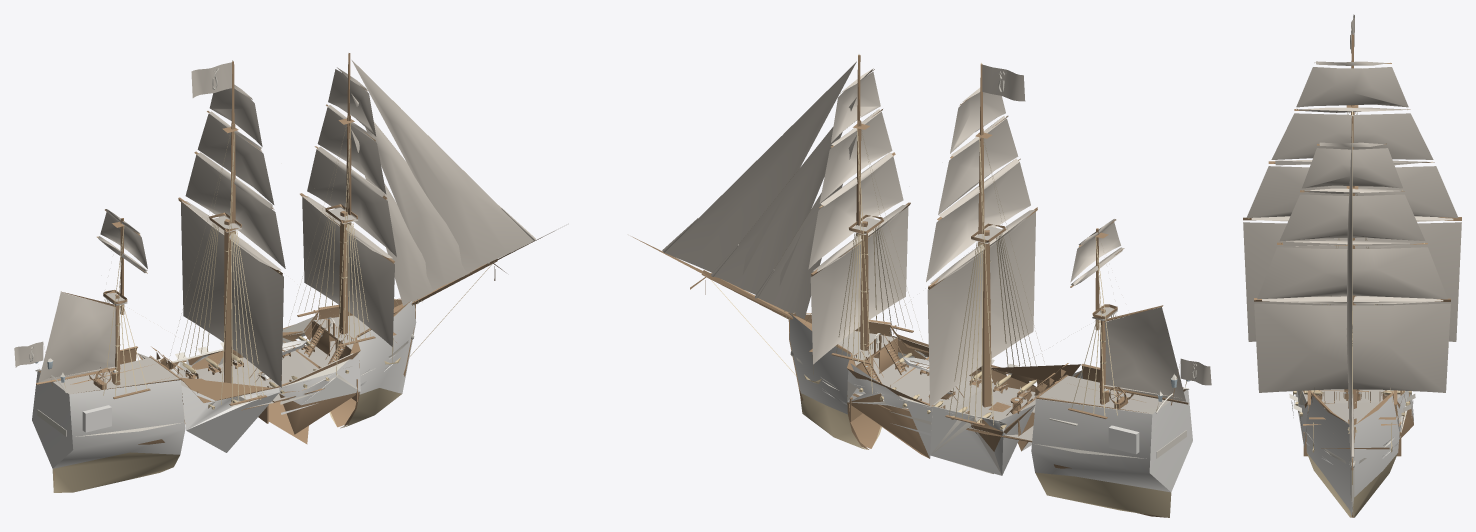
File: Second_Bride_LOD2.dae
The picture shows the model from 3 angles, left to right: view 1: azimuth 30°, elevation 25°; view 2: azimuth 150°, elevation 25°; view 3: azimuth 270°, elevation 25°; orthographic projection. The views are drawn at different scales.
Parts seen in each view (by area): view 1: Bride_Sails_Main_LOD2, Bride_Sails_Head_LOD2, Bride_Sails_Fore_LOD2, Bride_Hull_Stern_LOD2, Bride_Sails_Mizzen_LOD2, Bride_Hull_Aft_LOD2, Bride_Hull_Bow_LOD2, Bride_Hull_Fore_LOD2, Bride_Deck_Quarter_LOD2, Bride_Deck_Main_Fore_LOD2, Bride_Shrouds_Main_S_LOD2, Bride_Mast_Main_LOD2 (+14 smaller); view 2: Bride_Sails_Main_LOD2, Bride_Sails_Head_LOD2, Bride_Sails_Fore_LOD2, Bride_Hull_Stern_LOD2, Bride_Sails_Mizzen_LOD2, Bride_Hull_Aft_LOD2, Bride_Hull_Bow_LOD2, Bride_Hull_Fore_LOD2, Bride_Deck_Quarter_LOD2, Bride_Deck_Main_Fore_LOD2, Bride_Shrouds_Main_P_LOD2, Bride_Mast_Main_LOD2 (+16 smaller); view 3: Bride_Sails_Fore_LOD2, Bride_Sails_Main_LOD2, Bride_Hull_Bow_LOD2, Bride_Furled_Fore_LOD2, Bride_Sails_Head_LOD2, Bride_Furled_Main_LOD2, Bride_Hull_Fore_LOD2, Bride_Deck_Main_Fore_LOD2, Bride_Deck_Fore_LOD2, Bride_Bowsprit_LOD2, Bride_Topmast_Fore_LOD2, Bride_Topmast_Main_LOD2 (+1 smaller).
Part boxes in pixels (left/top/right/bottom): Bride_Sails_Main_LOD2: left=181, top=88, right=285, bottom=387; Bride_Sails_Head_LOD2: left=351, top=60, right=533, bottom=305; Bride_Sails_Fore_LOD2: left=302, top=69, right=396, bottom=346; Bride_Hull_Stern_LOD2: left=32, top=346, right=185, bottom=492; Bride_Sails_Mizzen_LOD2: left=38, top=212, right=147, bottom=382; Bride_Hull_Aft_LOD2: left=137, top=348, right=279, bottom=452; Bride_Hull_Bow_LOD2: left=318, top=298, right=416, bottom=428; Bride_Hull_Fore_LOD2: left=231, top=310, right=360, bottom=444; Bride_Deck_Quarter_LOD2: left=53, top=346, right=195, bottom=394; Bride_Deck_Main_Fore_LOD2: left=222, top=341, right=335, bottom=402; Bride_Shrouds_Main_S_LOD2: left=221, top=131, right=267, bottom=405; Bride_Mast_Main_LOD2: left=209, top=212, right=241, bottom=383; Bride_Sails_Main_LOD2: left=926, top=92, right=1035, bottom=406; Bride_Sails_Head_LOD2: left=664, top=61, right=856, bottom=319; Bride_Sails_Fore_LOD2: left=808, top=72, right=908, bottom=364; Bride_Hull_Stern_LOD2: left=1031, top=364, right=1192, bottom=517; Bride_Sails_Mizzen_LOD2: left=1070, top=222, right=1185, bottom=401; Bride_Hull_Aft_LOD2: left=930, top=364, right=1082, bottom=475; Bride_Hull_Bow_LOD2: left=788, top=312, right=891, bottom=449; Bride_Hull_Fore_LOD2: left=847, top=325, right=981, bottom=458; Bride_Deck_Quarter_LOD2: left=1020, top=363, right=1169, bottom=428; Bride_Deck_Main_Fore_LOD2: left=852, top=357, right=993, bottom=410; Bride_Shrouds_Main_P_LOD2: left=945, top=137, right=993, bottom=426; Bride_Mast_Main_LOD2: left=971, top=223, right=1006, bottom=407; Bride_Sails_Fore_LOD2: left=1254, top=148, right=1450, bottom=392; Bride_Sails_Main_LOD2: left=1243, top=67, right=1461, bottom=341; Bride_Hull_Bow_LOD2: left=1306, top=392, right=1399, bottom=517; Bride_Furled_Fore_LOD2: left=1262, top=142, right=1443, bottom=304; Bride_Sails_Head_LOD2: left=1346, top=131, right=1352, bottom=449; Bride_Furled_Main_LOD2: left=1251, top=61, right=1453, bottom=221; Bride_Hull_Fore_LOD2: left=1291, top=390, right=1413, bottom=448; Bride_Deck_Main_Fore_LOD2: left=1298, top=389, right=1401, bottom=426; Bride_Deck_Fore_LOD2: left=1310, top=391, right=1394, bottom=423; Bride_Bowsprit_LOD2: left=1303, top=417, right=1399, bottom=470; Bride_Topmast_Fore_LOD2: left=1254, top=114, right=1450, bottom=304; Bride_Topmast_Main_LOD2: left=1243, top=34, right=1461, bottom=220.
Bounding box in the file's own units: 58.49 × 18.8 × 39.66.
